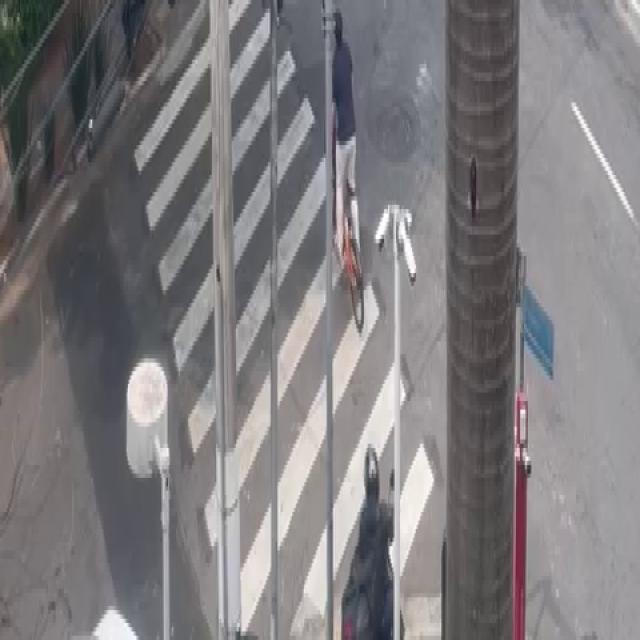bicycle: (318, 3, 370, 325)
motorbike: (346, 429, 399, 640)
